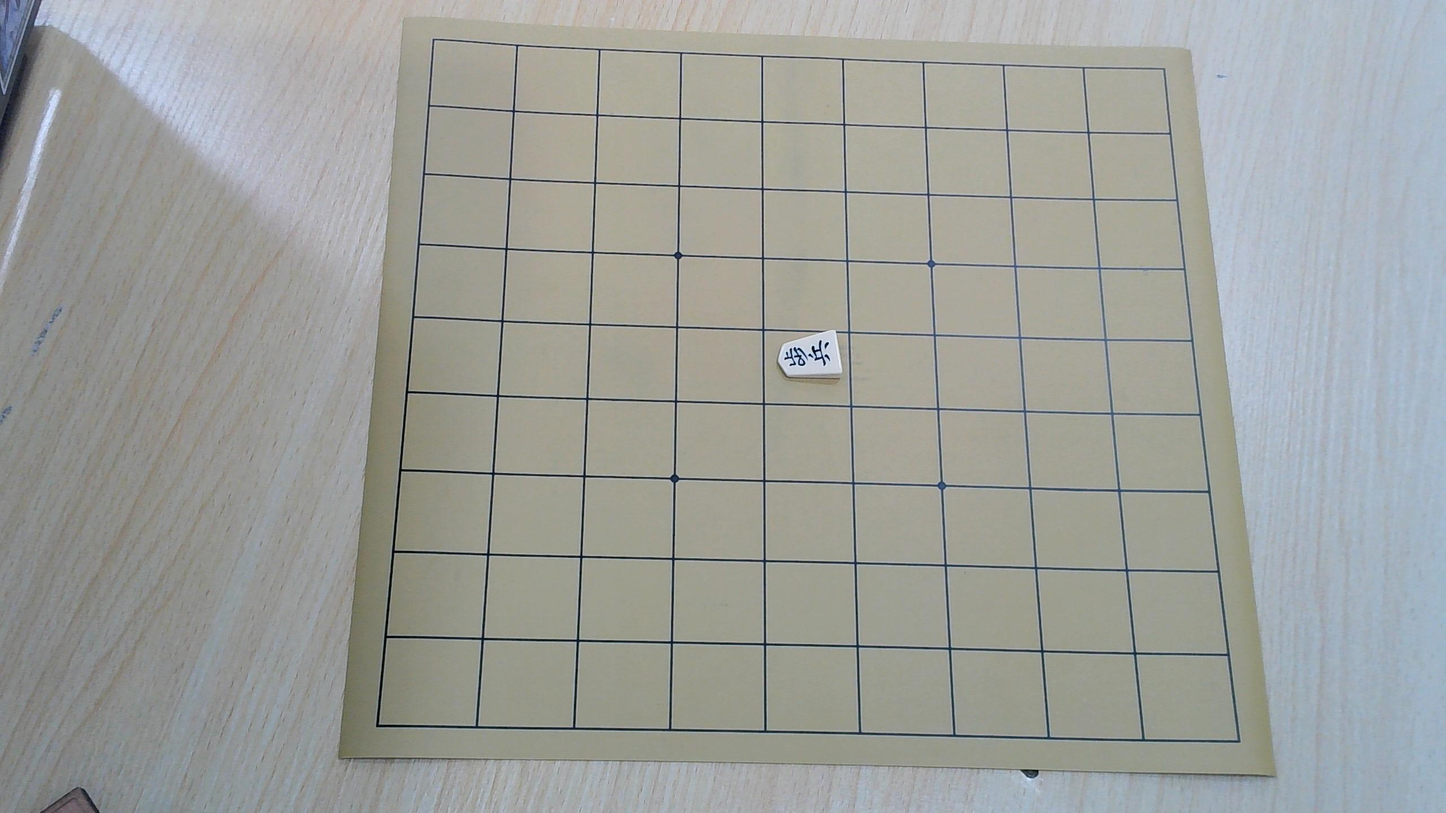board: (378, 40, 1239, 742)
